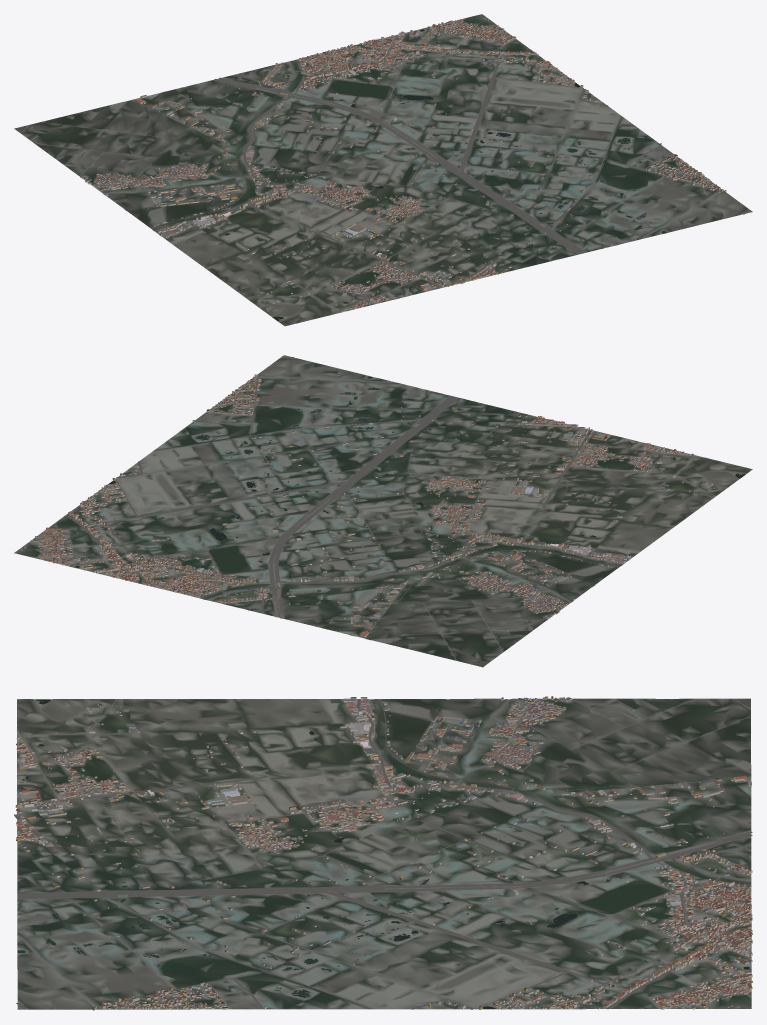
The picture shows the model from 3 angles, top to bottom: view 1: azimuth 30°, elevation 25°; view 2: azimuth 150°, elevation 25°; view 3: azimuth 270°, elevation 25°; orthographic projection. The views are drawn at different scales.
Parts seen in each view (by area): view 1: ground, buildings, roads, water; view 2: ground, buildings, roads, water; view 3: ground, buildings, roads, water.
Part boxes in pixels (bbox=[...]): ground: bbox=[14, 14, 752, 326]; buildings: bbox=[75, 19, 726, 311]; roads: bbox=[21, 18, 750, 314]; water: bbox=[104, 29, 666, 321]; ground: bbox=[14, 355, 752, 667]; buildings: bbox=[23, 374, 714, 636]; roads: bbox=[30, 356, 715, 663]; water: bbox=[75, 376, 745, 634]; ground: bbox=[17, 698, 751, 1009]; buildings: bbox=[14, 696, 752, 1010]; roads: bbox=[16, 698, 752, 1009]; water: bbox=[17, 699, 751, 1008].
Size of the model in its own units: 2825 by 25.87 by 2822.
